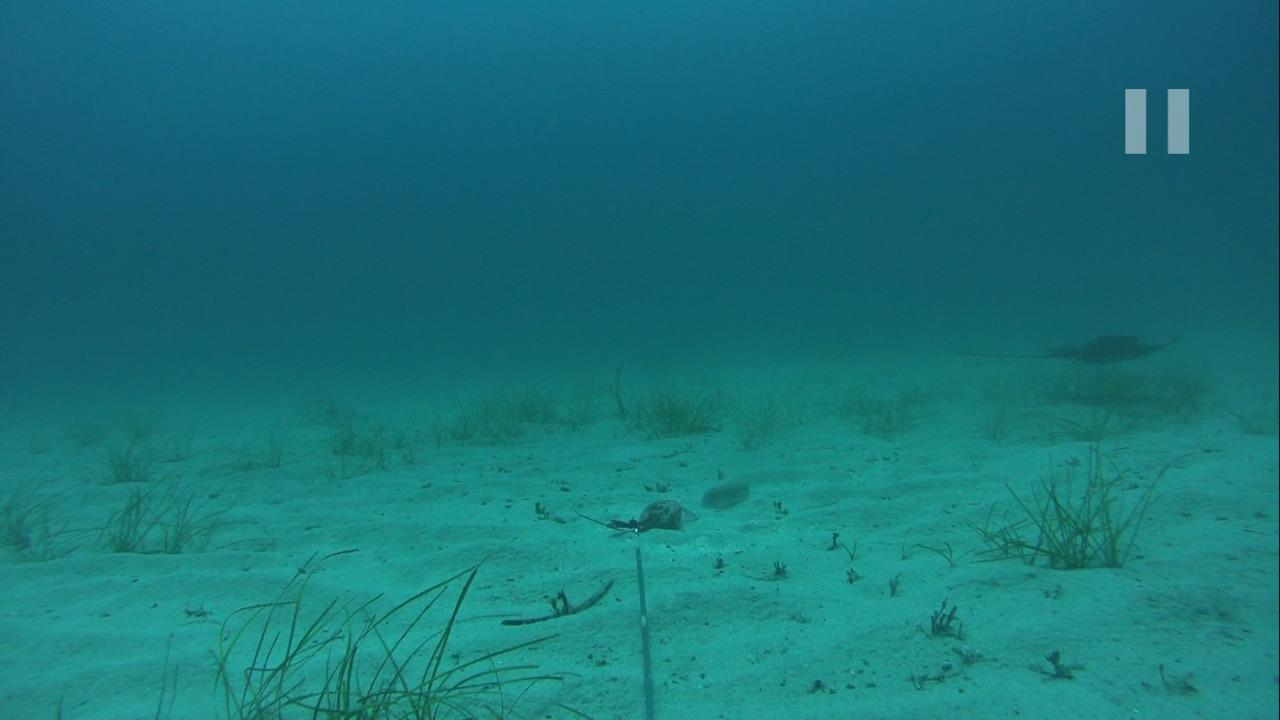myliobatis: (921, 319, 1184, 373)
raor: (692, 477, 753, 516)
